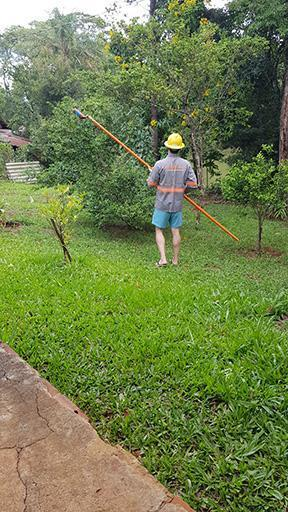helmet: (163, 131, 185, 156)
